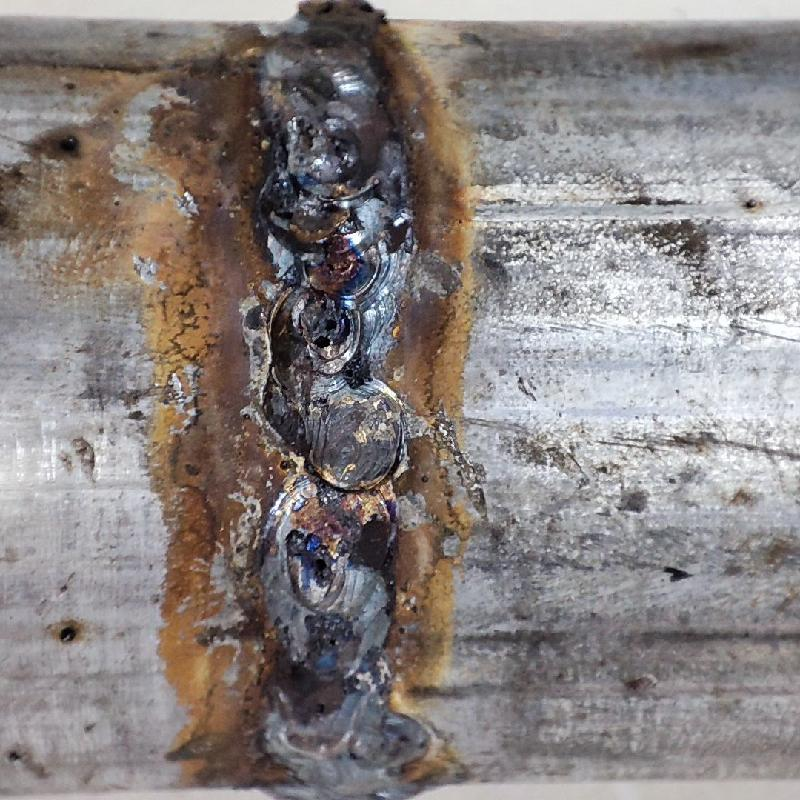Surface_pores: (298, 538, 347, 585), (303, 308, 354, 349)
crater: (258, 106, 405, 628)
wrong_size: (263, 631, 429, 799), (254, 3, 398, 96)
